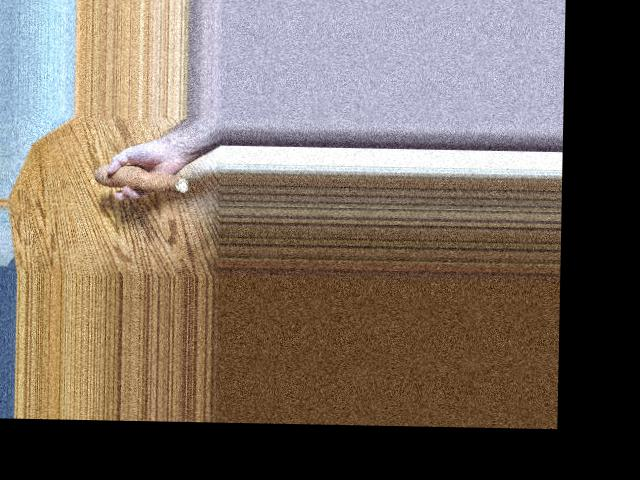sweet_potato: (100, 162, 181, 194)
